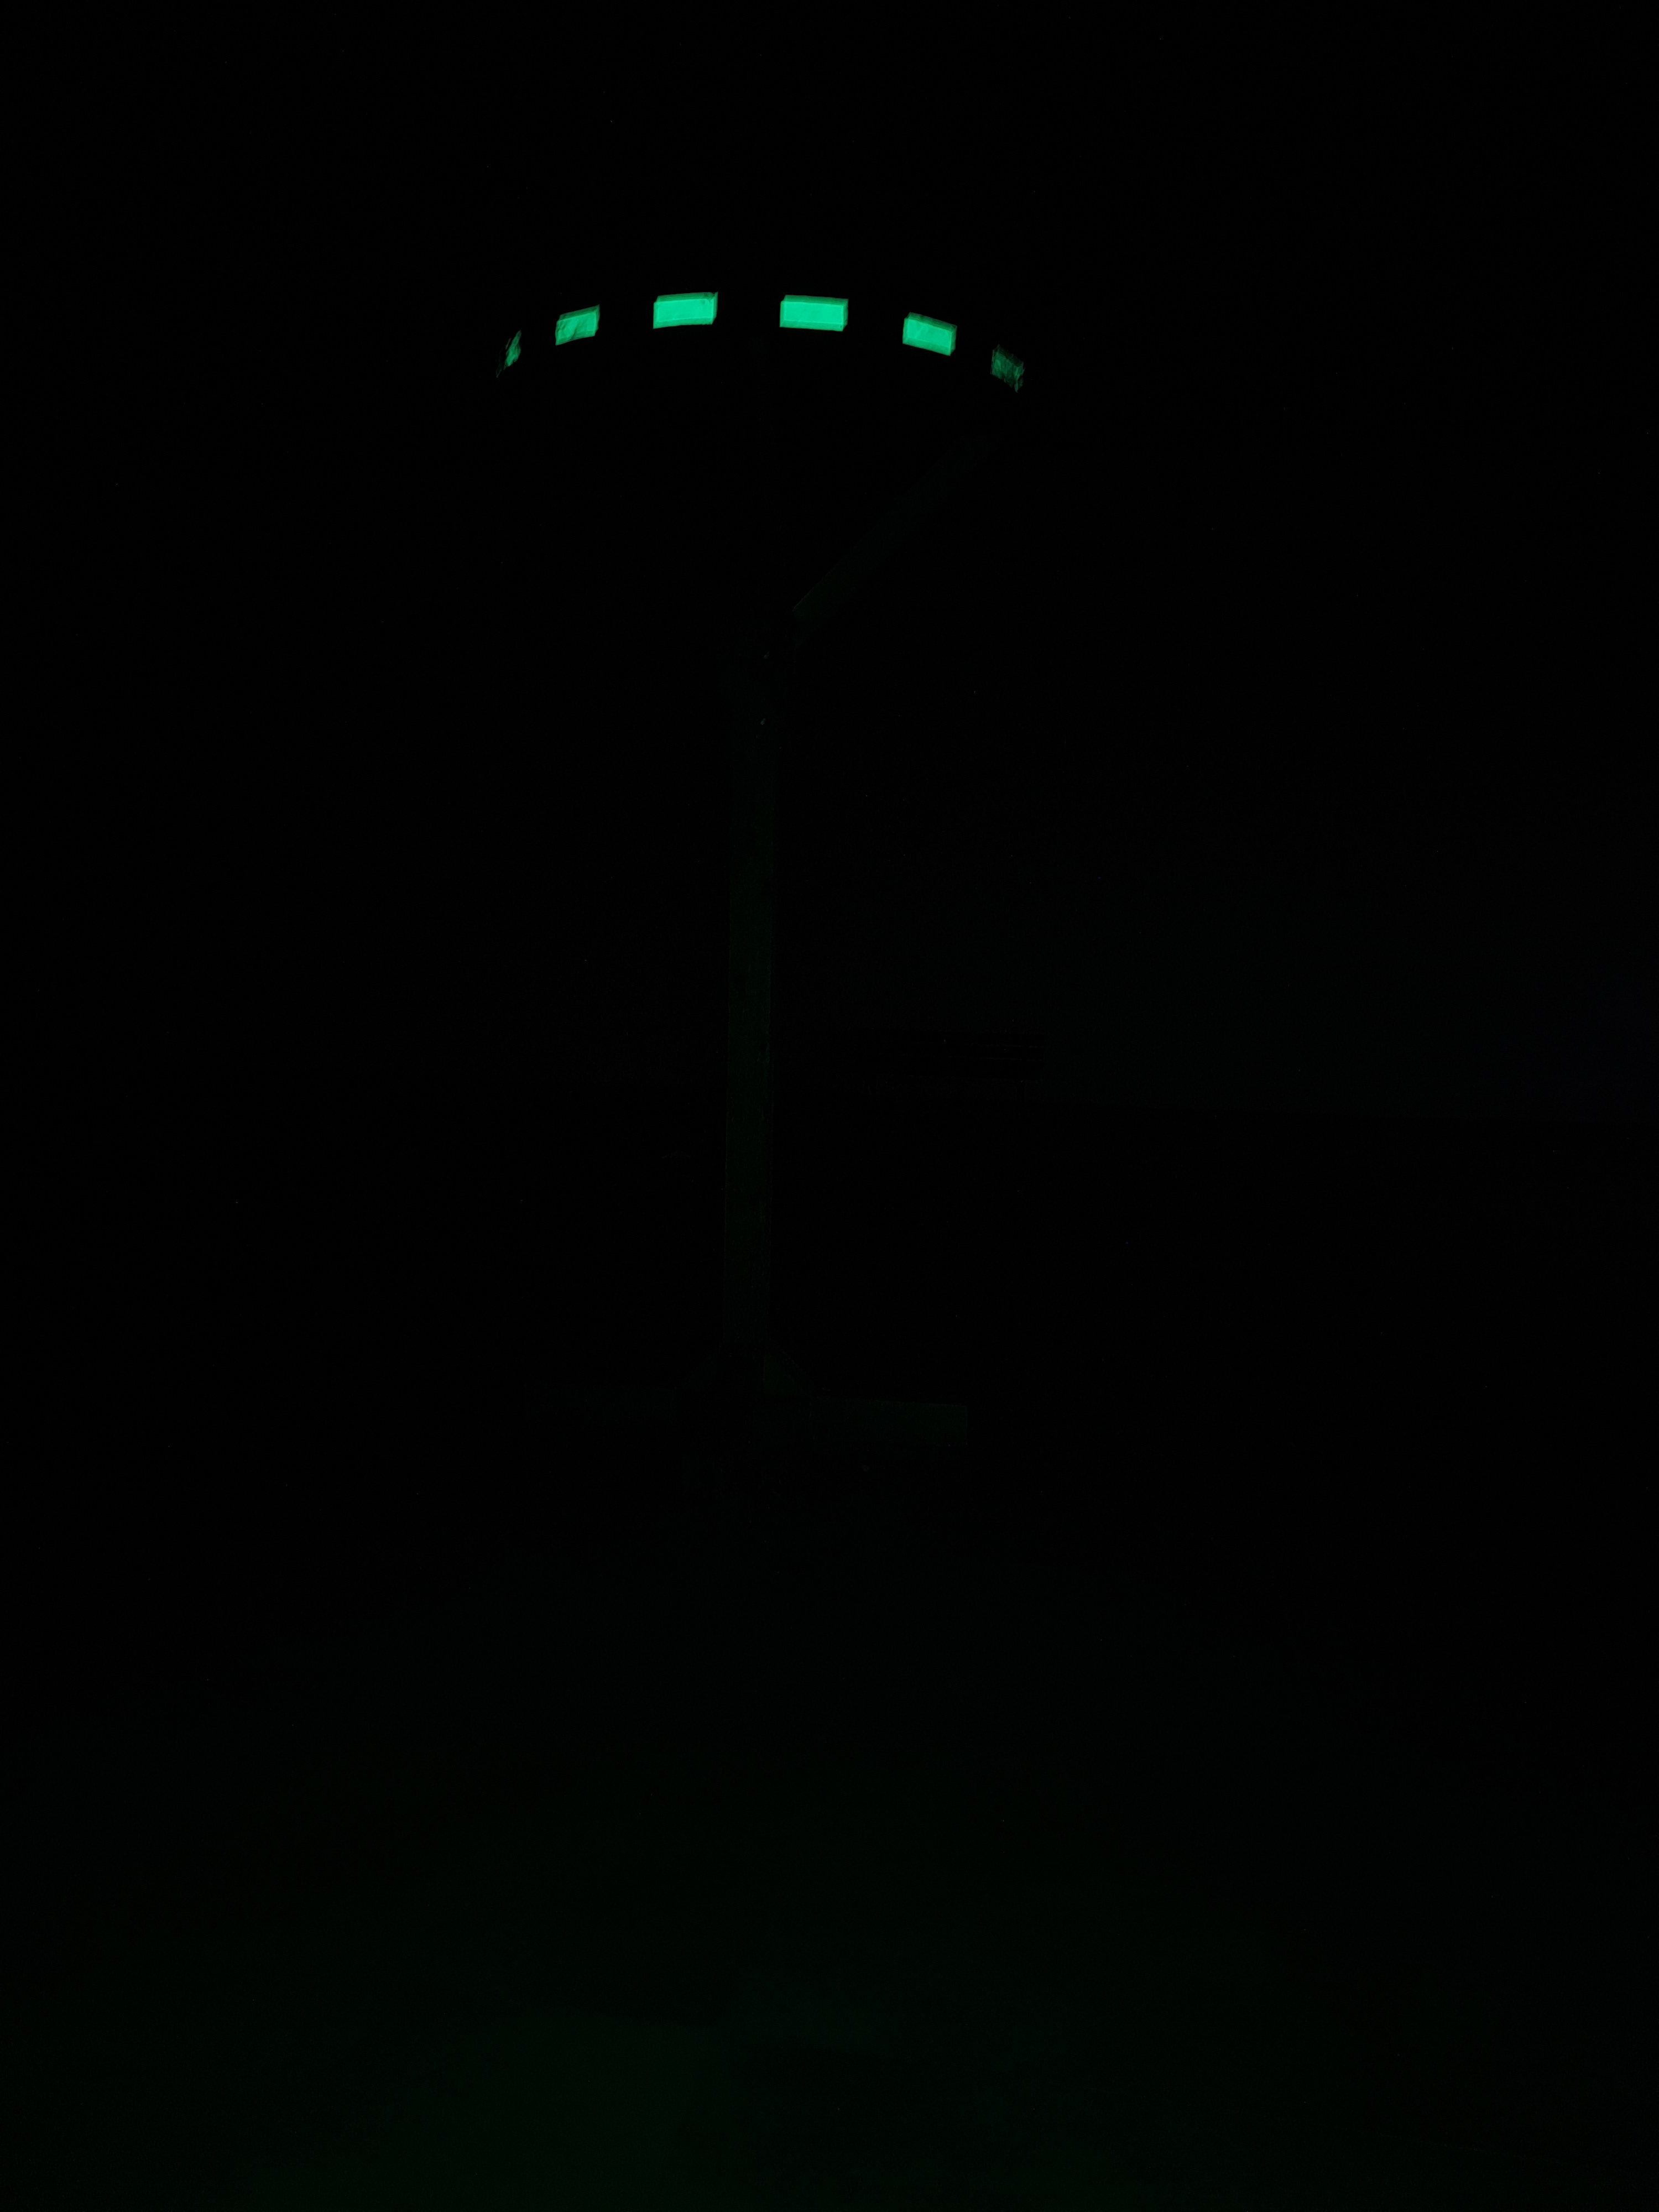hoop: (491, 284, 1032, 408)
